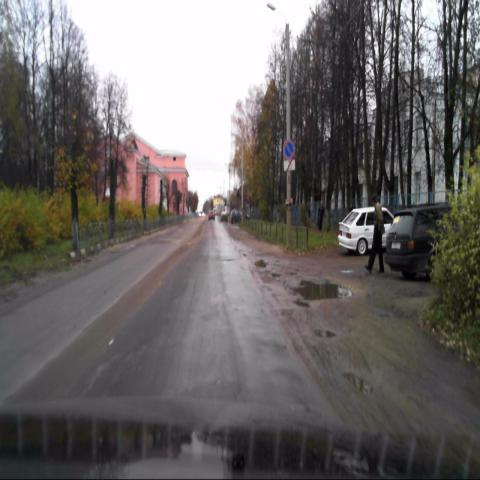3_28: (283, 139, 295, 160)
